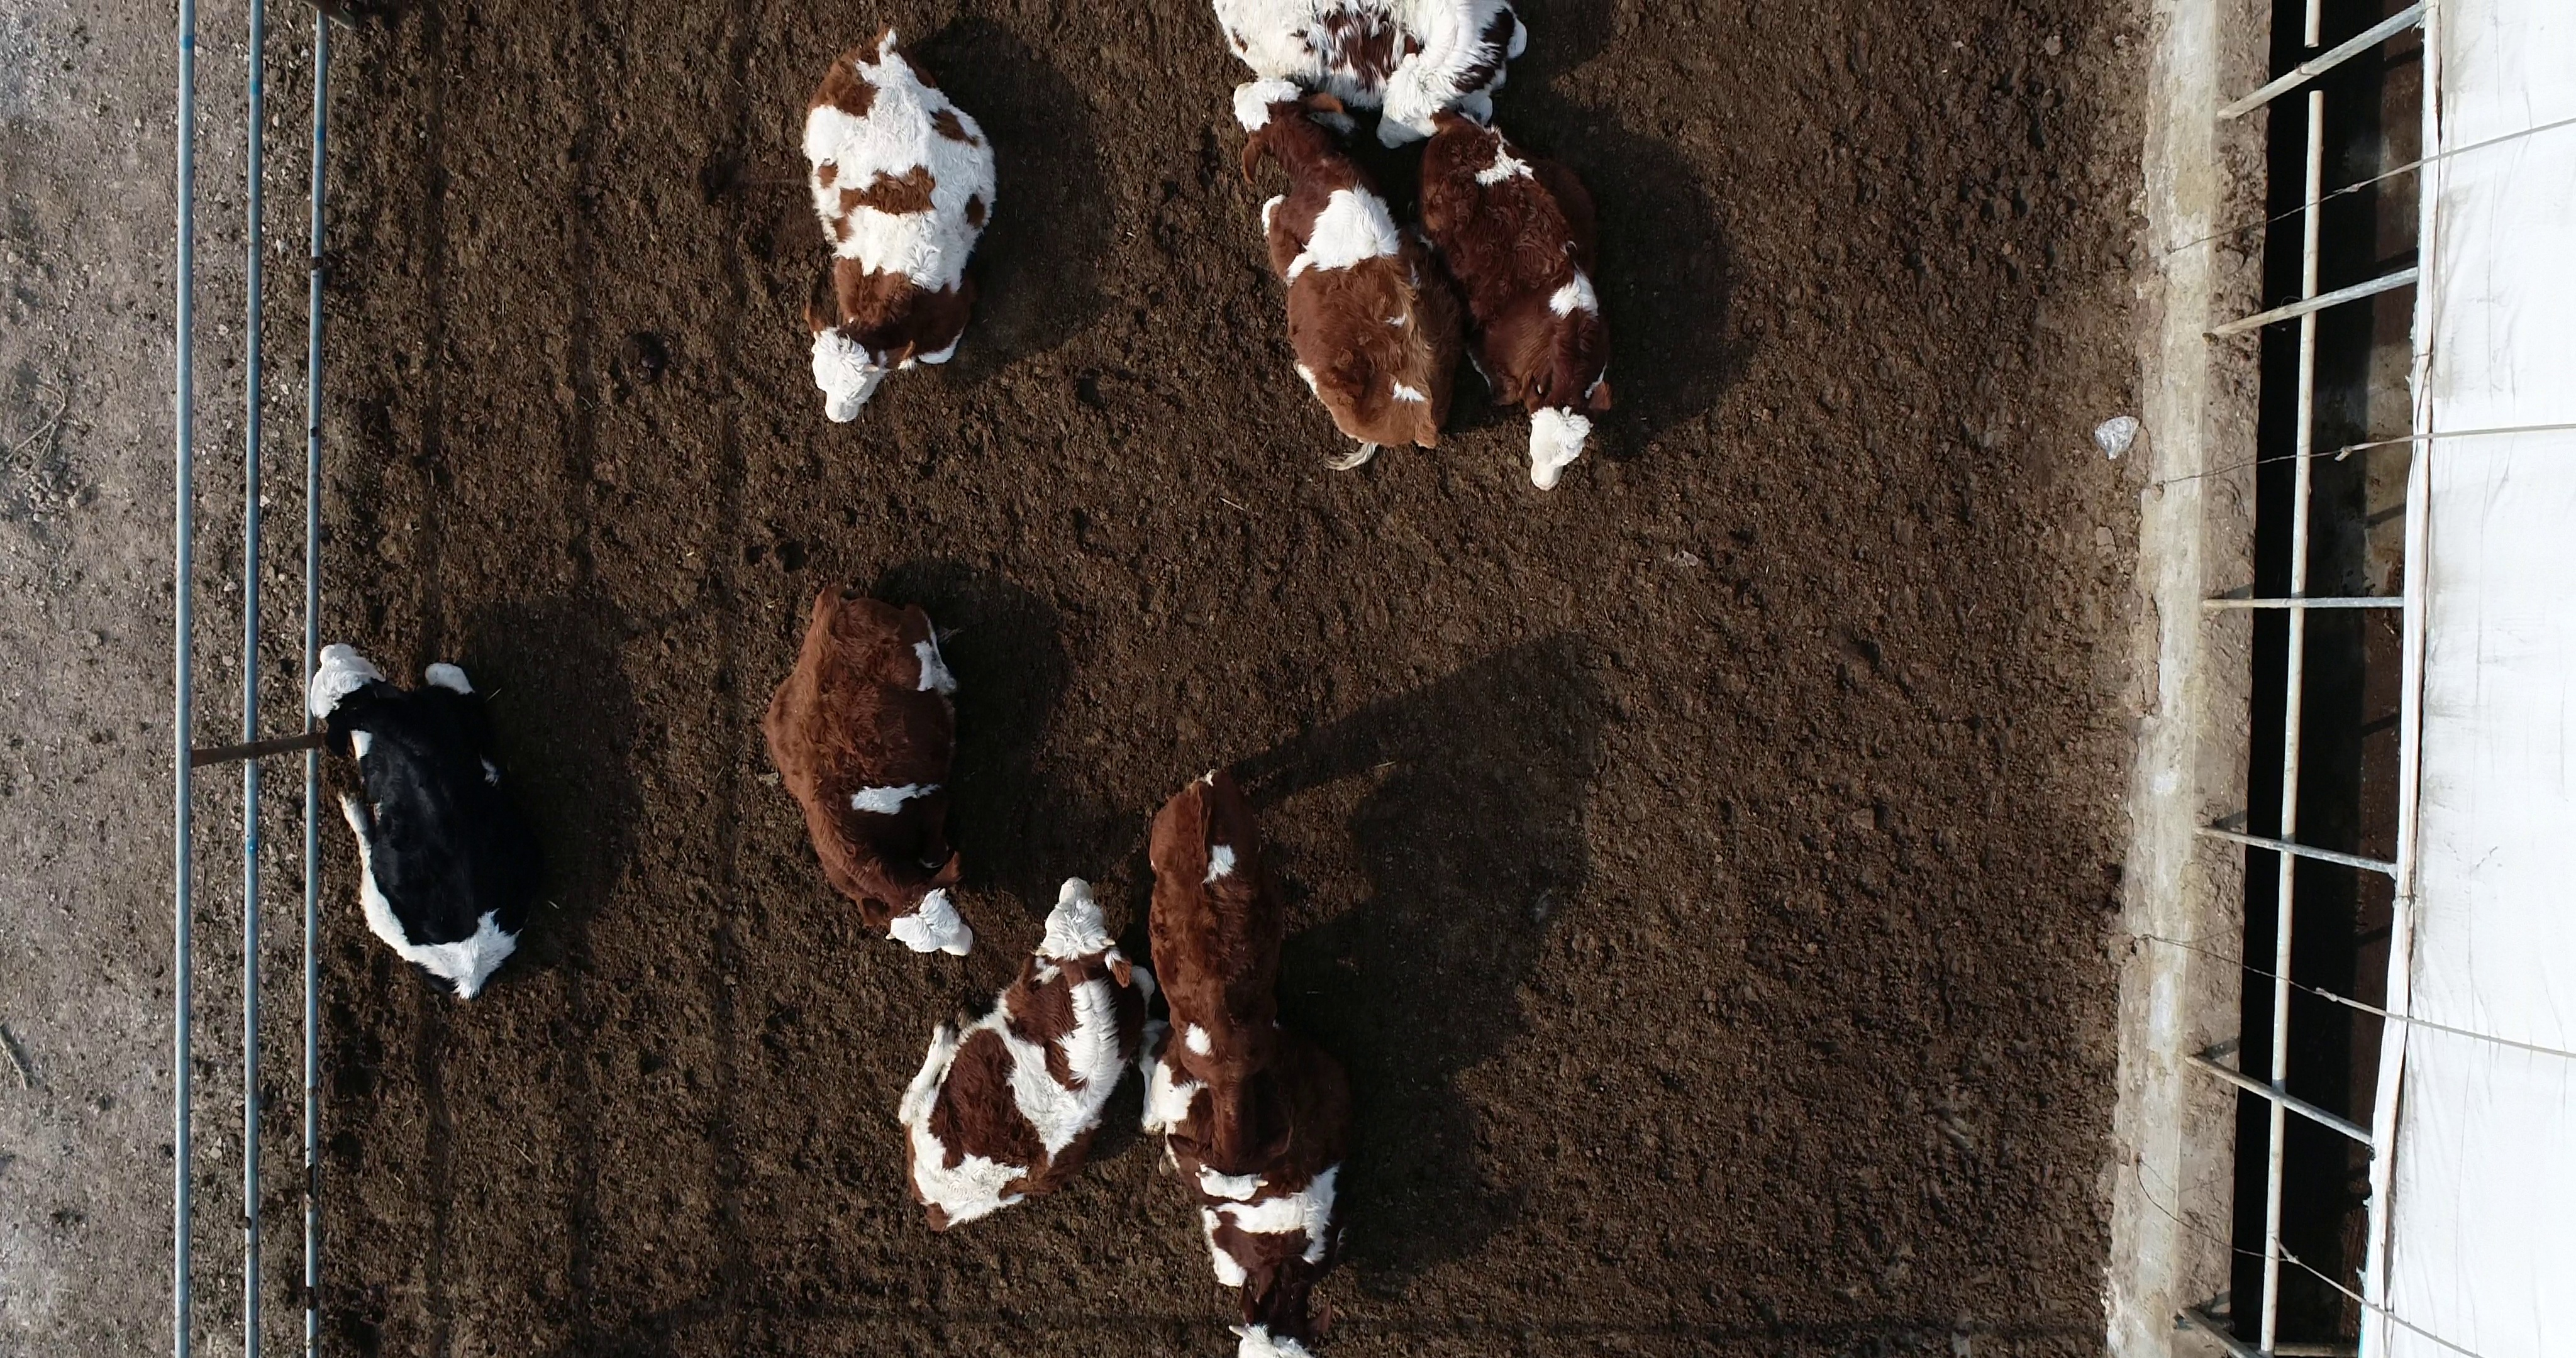cattle: (886, 867, 1164, 1239), (1227, 73, 1467, 474), (789, 17, 1009, 431), (1409, 101, 1627, 503), (756, 576, 983, 961), (298, 637, 533, 1005), (1145, 762, 1302, 1203)
